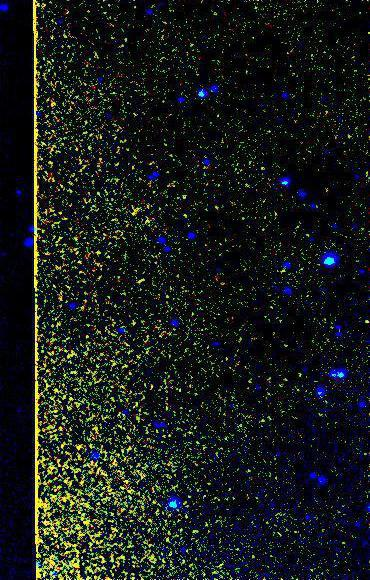star: (351, 307, 370, 337)
